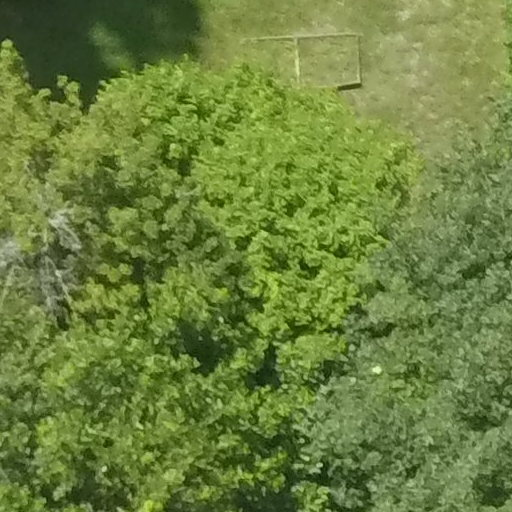flower bed: (239, 21, 373, 103)
